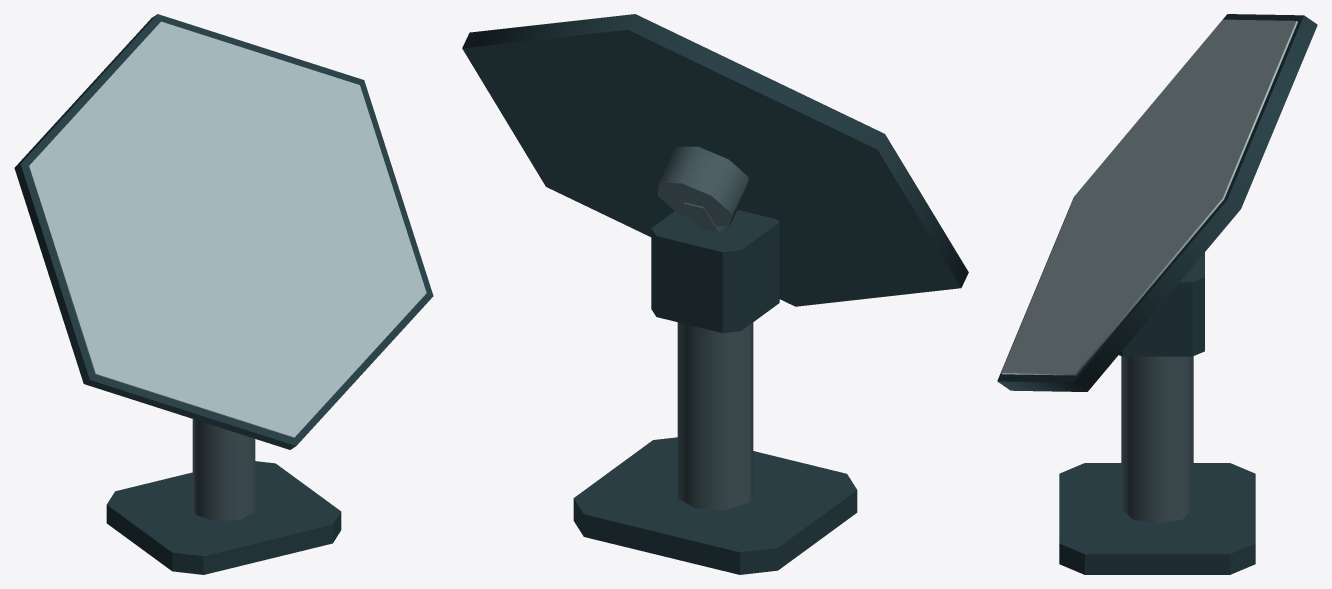
Rendered from mirror_d0_lod2.meshopt.glb.
The picture shows the model from 3 angles, left to right: view 1: azimuth 30°, elevation 25°; view 2: azimuth 150°, elevation 25°; view 3: azimuth 270°, elevation 25°; orthographic projection. The views are drawn at different scales.
Parts seen in each view (by area): view 1: DISTANCE_STATIC; view 2: DISTANCE_STATIC; view 3: DISTANCE_STATIC.
Boxes of the visible parts, bbox=[...] form: DISTANCE_STATIC: bbox=[14, 14, 433, 574]; DISTANCE_STATIC: bbox=[462, 14, 968, 574]; DISTANCE_STATIC: bbox=[997, 14, 1317, 574].
Bounding box in the file's own units: 2.68 × 3.47 × 1.96.
